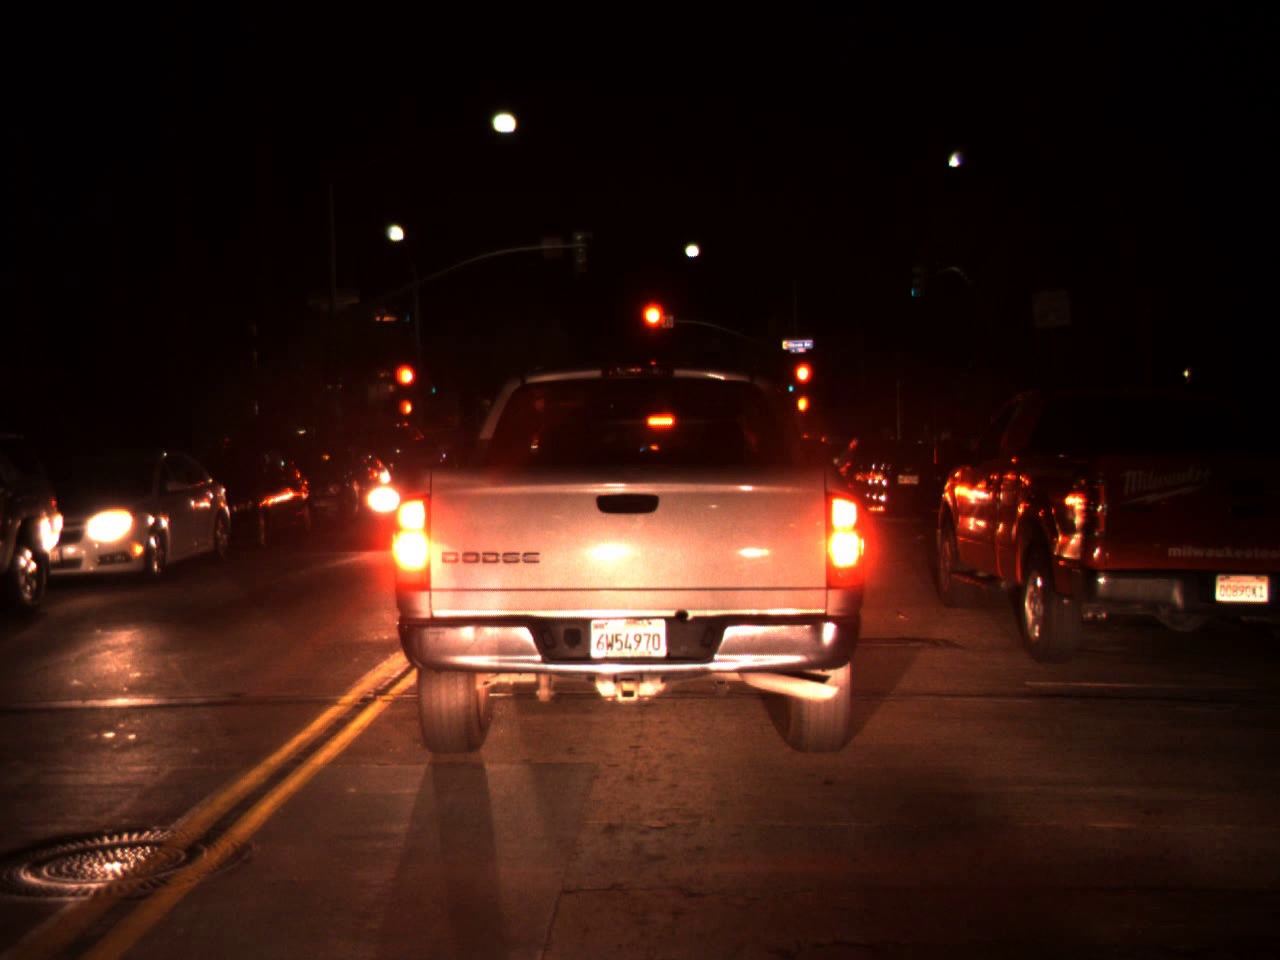stop: (642, 304, 664, 341), (395, 365, 416, 400), (794, 362, 812, 397)
